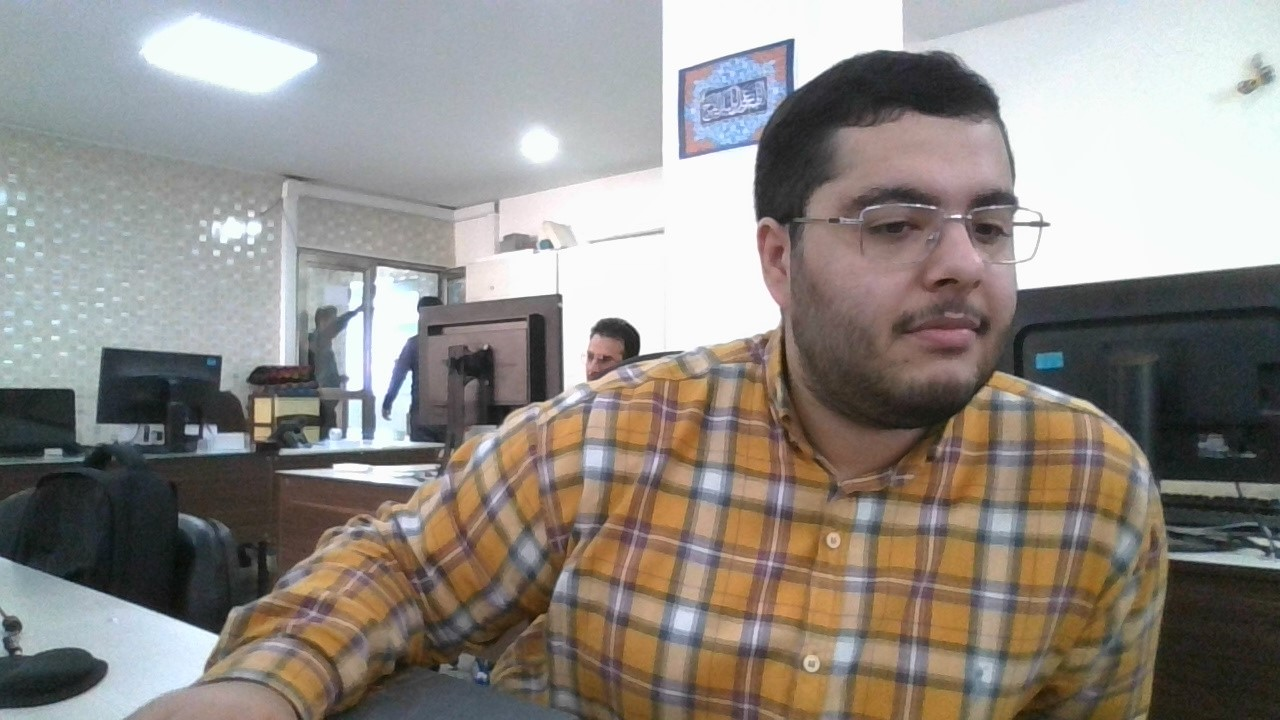NoMask: (782, 252, 1022, 413)
